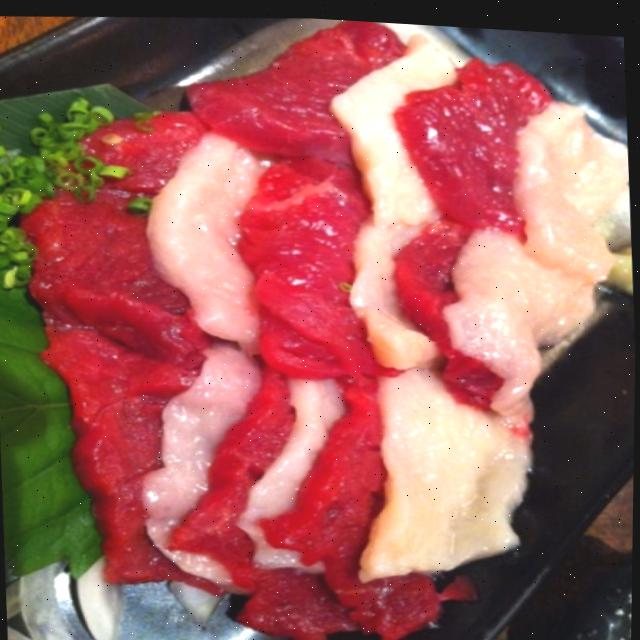刺身生食: (12, 1, 640, 640)
